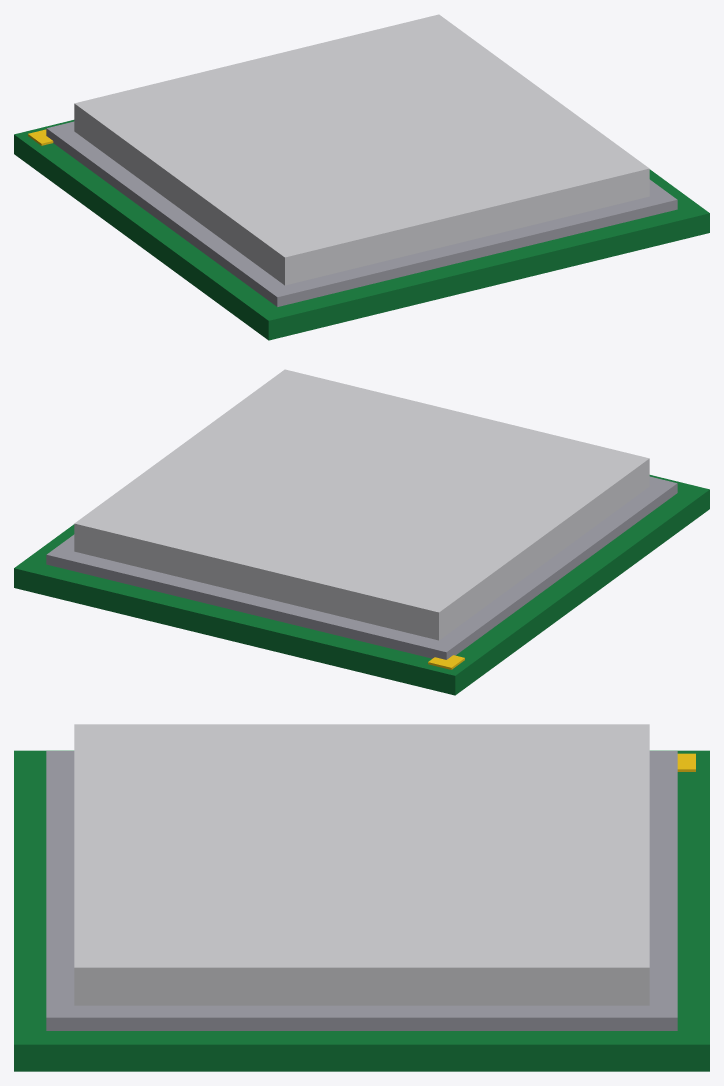
File: cpu.glb
The picture shows the model from 3 angles, top to bottom: view 1: azimuth 30°, elevation 25°; view 2: azimuth 150°, elevation 25°; view 3: azimuth 270°, elevation 25°; orthographic projection. The views are drawn at different scales.
Size of the model in its own units: 0.075 by 0.0106 by 0.075.
